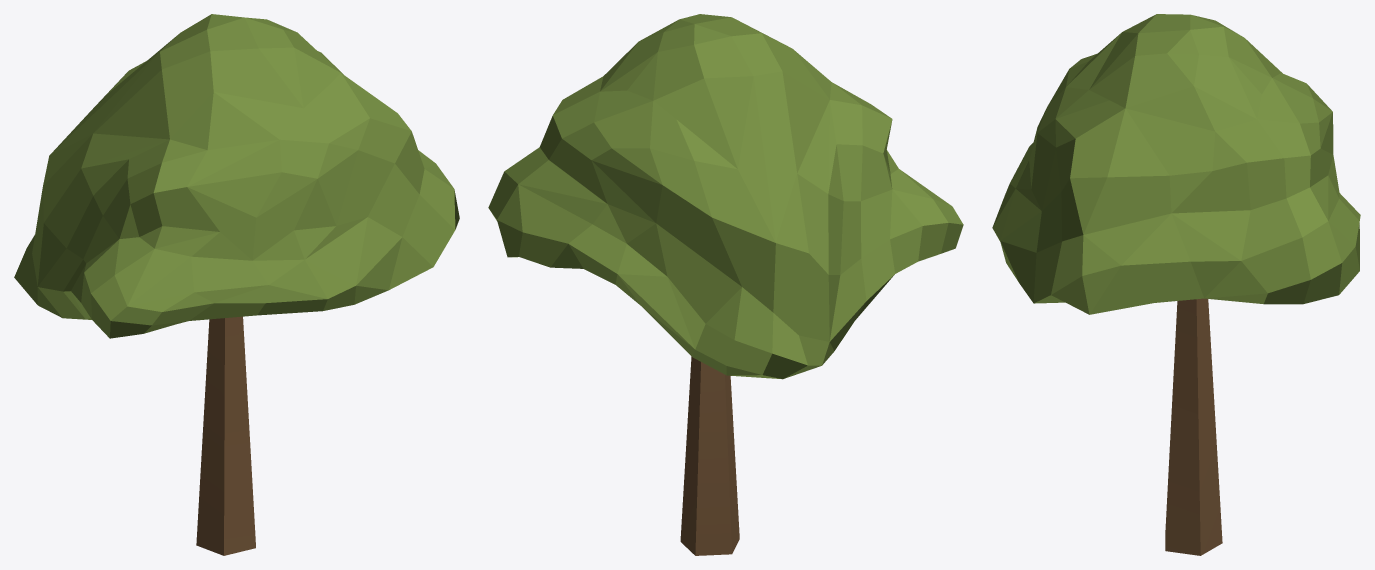
The model's file is wild_pz_tree_20.glb.
3 views of the same model, side by side, from view 1: azimuth 30°, elevation 25°; view 2: azimuth 150°, elevation 25°; view 3: azimuth 270°, elevation 25° (orthographic).
Parts seen in each view (by area): view 1: pg_tree_20; view 2: pg_tree_20; view 3: pg_tree_20.
Boxes of the visible parts, bbox=[...] form: pg_tree_20: bbox=[14, 14, 459, 555]; pg_tree_20: bbox=[488, 14, 963, 555]; pg_tree_20: bbox=[992, 14, 1360, 555].
Size of the model in its own units: 3.31 by 4.46 by 2.85.
